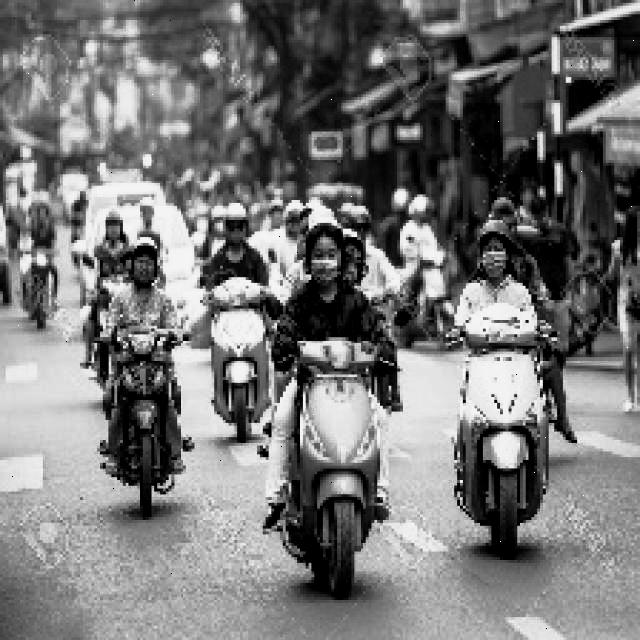Bike: (290, 335, 388, 587), (96, 306, 194, 522), (466, 319, 552, 549), (207, 271, 288, 431)
